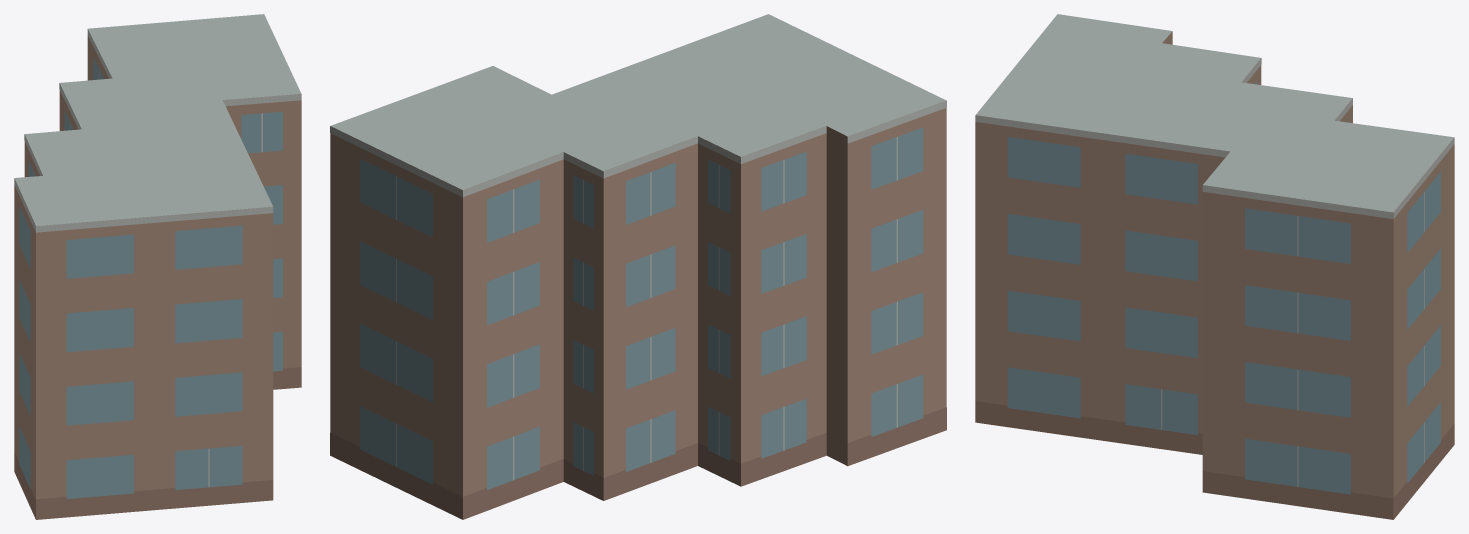
Rendered from survey-upis-32543325.glb.
The picture shows the model from 3 angles, left to right: view 1: azimuth 30°, elevation 25°; view 2: azimuth 150°, elevation 25°; view 3: azimuth 270°, elevation 25°; orthographic projection. The views are drawn at different scales.
Visible parts, largest first — view 1: survey-upis-32543325.tmp; view 2: survey-upis-32543325.tmp; view 3: survey-upis-32543325.tmp.
Boxes of the visible parts, bbox=[...] form: survey-upis-32543325.tmp: bbox=[14, 14, 301, 519]; survey-upis-32543325.tmp: bbox=[330, 14, 946, 519]; survey-upis-32543325.tmp: bbox=[975, 14, 1454, 519].
Bounding box in the file's own units: 15.52 × 11.2 × 15.83.
